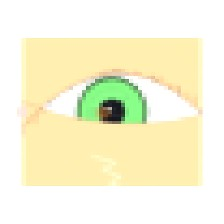foreign_body_visible: (89, 101, 119, 125)
